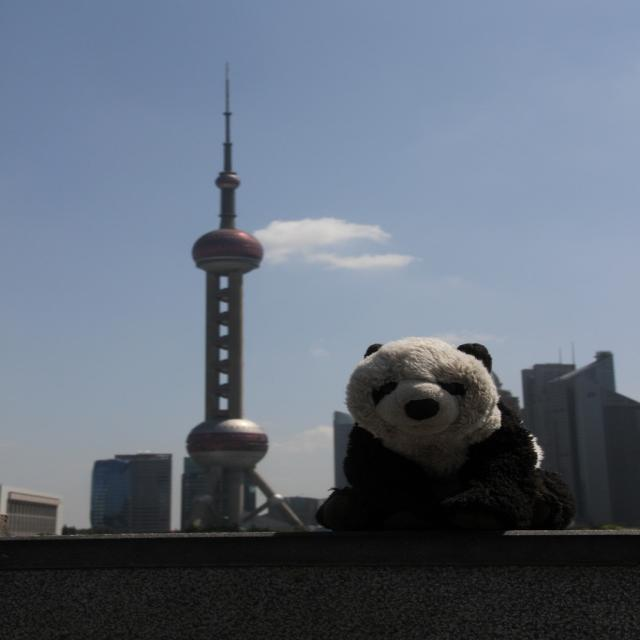panda: (314, 333, 578, 561)
